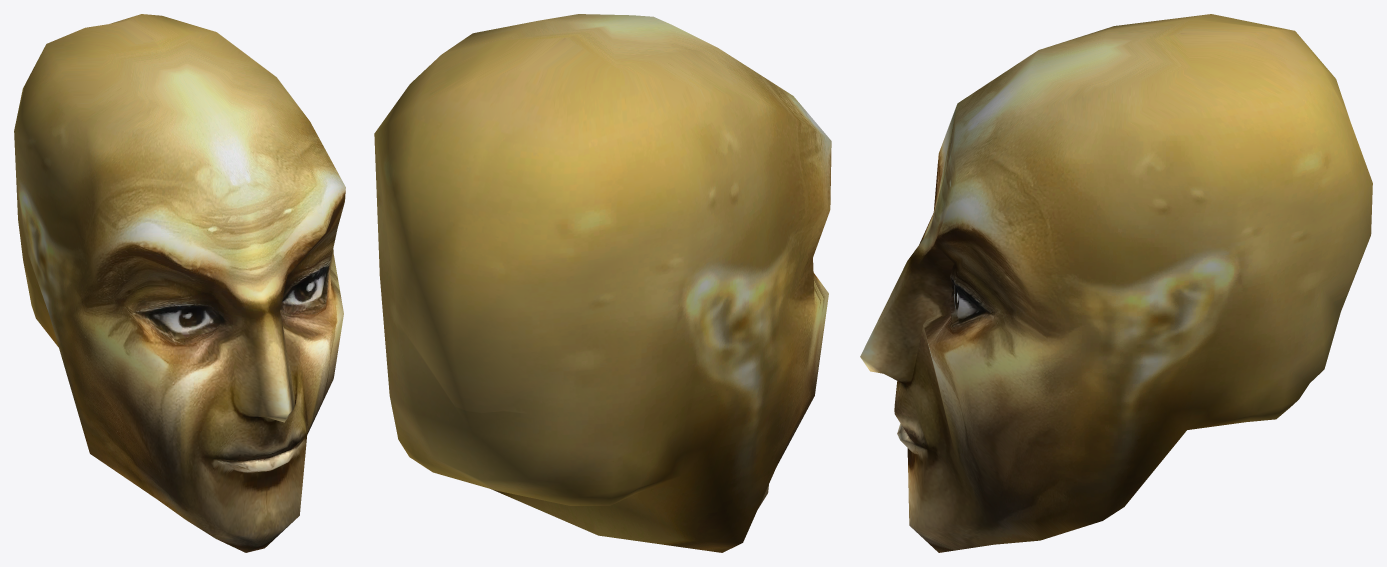
Rendered from b_n_high elf_m_head_03.glb.
3 renders of one model, left to right at view 1: azimuth 30°, elevation 25°; view 2: azimuth 150°, elevation 25°; view 3: azimuth 270°, elevation 25°, orthographic. The views are drawn at different scales.
Parts seen in each view (by area): view 1: Tri B_N_High Elf_M_Head_03; view 2: Tri B_N_High Elf_M_Head_03; view 3: Tri B_N_High Elf_M_Head_03.
Boxes of the visible parts, x1,y1,x2,y2 form: Tri B_N_High Elf_M_Head_03: [14, 14, 345, 552]; Tri B_N_High Elf_M_Head_03: [374, 14, 831, 552]; Tri B_N_High Elf_M_Head_03: [860, 14, 1372, 552].
Size of the model in its own units: 0.0965 by 0.1601 by 0.1447.
Materials: 1 (1 with a texture image).
